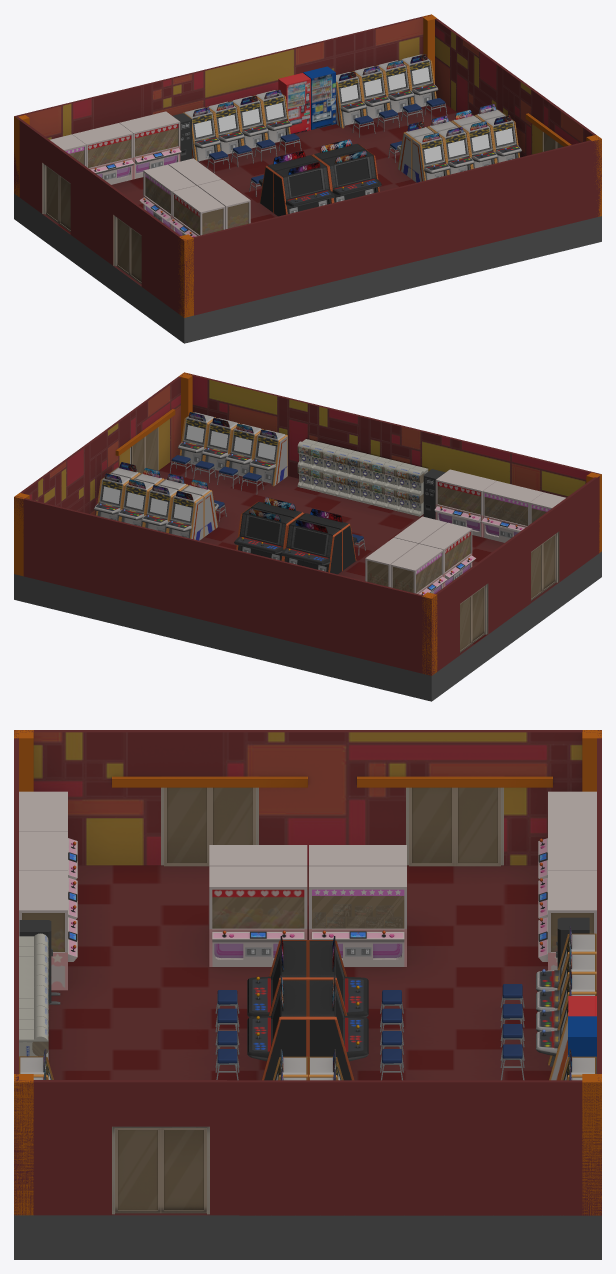
File: GameCenter.fbx
The picture shows the model from 3 angles, top to bottom: view 1: azimuth 30°, elevation 25°; view 2: azimuth 150°, elevation 25°; view 3: azimuth 270°, elevation 25°; orthographic projection. The views are drawn at different scales.
Visible parts, largest first — view 1: Wall_02, FloorThickness, Wall_01, Wall_Entrance, Wall_BackEntrance, Floor, CraneGame010, Arcade_2Player_02, CraneGame08, CraneGame01, Arcade_2Player_01, CraneGame02 (+28 smaller); view 2: Wall_01, FloorThickness, Wall_02, Wall_Entrance, Wall_BackEntrance, Floor, CraneGame03, Arcade_2Player_04, CraneGame04, CraneGame02, Arcade_2Player_03, CraneGame01 (+23 smaller); view 3: Wall_BackEntrance, Floor, Wall_Entrance, FloorThickness, CraneGame06, CraneGame07, Arcade_2Player_03, Arcade_2Player_01, CraneGame03, Door_L, Door_R, Door_R82 (+26 smaller).
Part boxes in pixels (<box>): Wall_02: <box>184,140,601,315</box>; FloorThickness: <box>14,193,601,343</box>; Wall_01: <box>14,14,430,139</box>; Wall_Entrance: <box>14,116,184,317</box>; Wall_BackEntrance: <box>435,18,600,157</box>; Floor: <box>42,98,456,286</box>; CraneGame010: <box>119,111,181,179</box>; Arcade_2Player_02: <box>273,161,334,216</box>; CraneGame08: <box>72,123,134,184</box>; CraneGame01: <box>168,185,225,237</box>; Arcade_2Player_01: <box>320,149,381,202</box>; CraneGame02: <box>139,164,196,229</box>; Wall_01: <box>14,496,431,675</box>; FloorThickness: <box>14,551,601,701</box>; Wall_02: <box>185,373,601,497</box>; Wall_Entrance: <box>431,476,599,675</box>; Wall_BackEntrance: <box>20,373,184,515</box>; Floor: <box>158,461,558,654</box>; CraneGame03: <box>434,469,496,537</box>; Arcade_2Player_04: <box>281,519,342,574</box>; CraneGame04: <box>481,481,543,542</box>; CraneGame02: <box>390,544,447,595</box>; Arcade_2Player_03: <box>234,507,295,560</box>; CraneGame01: <box>419,522,475,587</box>; Wall_BackEntrance: <box>14,1080,601,1215</box>; Floor: <box>48,865,596,1215</box>; Wall_Entrance: <box>15,730,601,865</box>; FloorThickness: <box>14,1215,601,1259</box>; CraneGame06: <box>209,866,307,966</box>; CraneGame07: <box>309,866,406,966</box>; Arcade_2Player_03: <box>308,975,368,1080</box>; Arcade_2Player_01: <box>247,975,307,1080</box>; CraneGame03: <box>19,871,77,990</box>; Door_L: <box>455,787,500,866</box>; Door_R: <box>409,787,454,866</box>; Door_R82: <box>164,787,209,866</box>.
Size of the model in its own units: 1700 by 400 by 1200.
